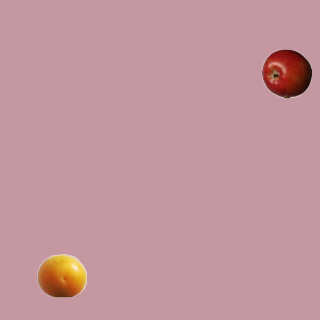Apple Braeburn: (261, 48, 311, 98)
Cherry Wax Yellow: (36, 250, 86, 300)
